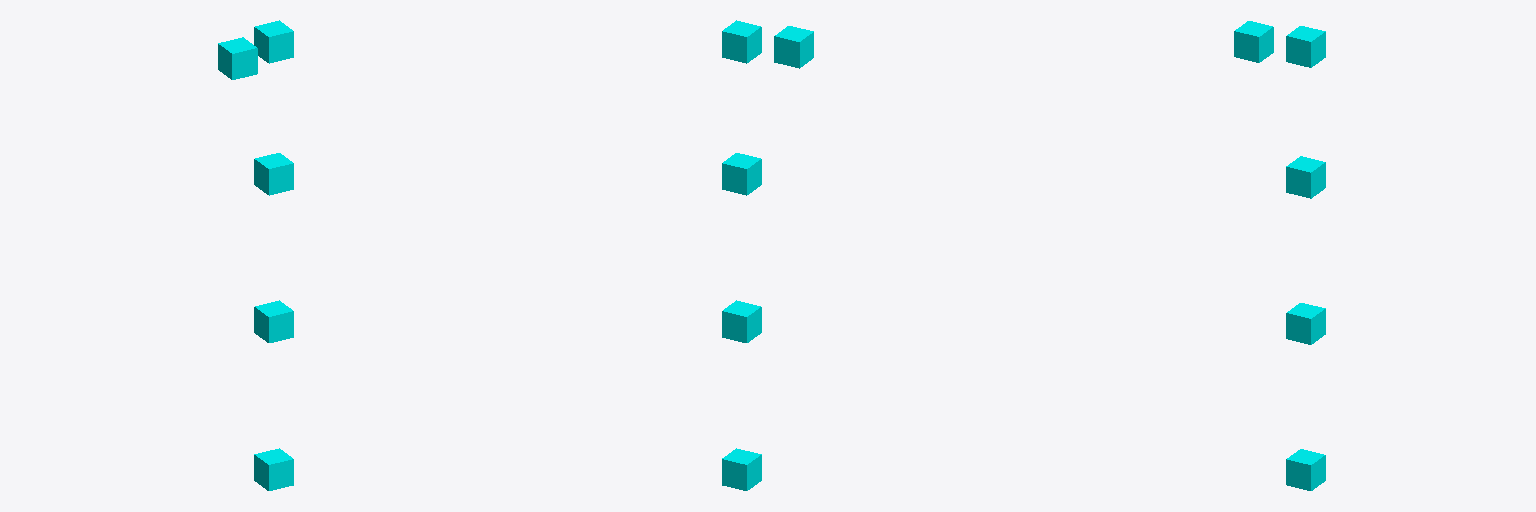
The robot description file, URDF, robot "ar600":
<?xml version="1.0" ?>
<!-- =================================================================================== -->
<!-- |    This document was autogenerated by xacro from ar600.xacro                    | -->
<!-- |    EDITING THIS FILE BY HAND IS NOT RECOMMENDED                                 | -->
<!-- =================================================================================== -->
<robot name="ar600" xmlns:xacro="http://www.ros.org/wiki/xacro">
  <link name="base_link">
    <visual>
      <origin rpy="0 0 0" xyz="0 0 0"/>
      <geometry>
        <box size="0.05 0.05 0.05"/>
      </geometry>
      <material name="Cyan">
        <color rgba="0 1.0 1.0 1.0"/>
      </material>
    </visual>
    <inertial>
      <origin rpy="0 0 0" xyz="0 0.05 0"/>
      <mass value="5.045"/>
      <inertia ixx="0.0" ixy="0.0" ixz="0.0" iyy="0.0" iyz="0.0" izz="0.0"/>
    </inertial>
  </link>
  <link name="hip_fork_left">
    <visual>
      <origin rpy="0 0 0" xyz="0 0 0"/>
      <geometry>
        <box size="0.05 0.05 0.05"/>
      </geometry>
      <material name="Cyan">
        <color rgba="0 1.0 1.0 1.0"/>
      </material>
    </visual>
  </link>
  <link name="hip_cross_left">
    <visual>
      <origin rpy="0 0 0" xyz="0 0 0"/>
      <geometry>
        <box size="0.05 0.05 0.05"/>
      </geometry>
      <material name="Cyan">
        <color rgba="0 1.0 1.0 1.0"/>
      </material>
    </visual>
  </link>
  <link name="hip_left">
    <visual>
      <origin rpy="0 0 0" xyz="0 0 0"/>
      <geometry>
        <box size="0.05 0.05 0.05"/>
      </geometry>
      <material name="Cyan">
        <color rgba="0 1.0 1.0 1.0"/>
      </material>
    </visual>
  </link>
  <link name="shin_left">
    <visual>
      <origin rpy="0 0 0" xyz="0 0 0"/>
      <geometry>
        <box size="0.05 0.05 0.05"/>
      </geometry>
      <material name="Cyan">
        <color rgba="0 1.0 1.0 1.0"/>
      </material>
    </visual>
  </link>
  <link name="ankle_left">
    <visual>
      <origin rpy="0 0 0" xyz="0 0 0"/>
      <geometry>
        <box size="0.05 0.05 0.05"/>
      </geometry>
      <material name="Cyan">
        <color rgba="0 1.0 1.0 1.0"/>
      </material>
    </visual>
  </link>
  <link name="foot_left">
    <visual>
      <origin rpy="0 0 0" xyz="0 0 0"/>
      <geometry>
        <box size="0.05 0.05 0.05"/>
      </geometry>
      <material name="Cyan">
        <color rgba="0 1.0 1.0 1.0"/>
      </material>
    </visual>
  </link>
  <!-- hip z rotate (vertical)-->
  <joint name="hip_r_joint_left" type="revolute">
    <parent link="base_link"/>
    <child link="hip_fork_left"/>
    <!-- z unknown -->
    <origin rpy="0 0 0" xyz="0.088 0.0276 0"/>
    <axis xyz="0 0 1"/>
    <limit effort="10" lower="-0.349065850399" upper="0.349065850399" velocity="10"/>
  </joint>
  <!-- hip y rotate (side)-->
  <joint name="hip_s_joint_left" type="revolute">
    <parent link="hip_fork_left"/>
    <child link="hip_cross_left"/>
    <!-- unknown -->
    <origin rpy="0 0 0" xyz="0 0 -0.25"/>
    <axis xyz="0 1 0"/>
    <limit effort="10" lower="-0.191986217719" upper="0.349065850399" velocity="10"/>
  </joint>
  <!-- hip x rotate (forward)-->
  <joint name="hip_f_joint_left" type="revolute">
    <parent link="hip_cross_left"/>
    <child link="hip_left"/>
    <origin rpy="0 0 0" xyz="0 0 0"/>
    <axis xyz="1 0 0"/>
    <limit effort="10" lower="-0.785398163397" upper="1.2217304764" velocity="10"/>
  </joint>
  <!-- knee -->
  <joint name="knee_joint_left" type="revolute">
    <parent link="hip_left"/>
    <child link="shin_left"/>
    <origin rpy="0 0 0" xyz="0 0 -0.28"/>
    <axis xyz="1 0 0"/>
    <limit effort="10" lower="-2.44346095279" upper="0" velocity="10"/>
  </joint>
  <!-- ankle x (forward) -->
  <joint name="ankle_f_joint_left" type="revolute">
    <parent link="shin_left"/>
    <child link="ankle_left"/>
    <origin rpy="0 0 0" xyz="0 0 -0.28"/>
    <axis xyz="1 0 0"/>
    <limit effort="10" lower="-0.575958653158" upper="1.2217304764" velocity="10"/>
  </joint>
  <!-- ankle y (side) -->
  <joint name="ankle_s_joint_left" type="revolute">
    <parent link="ankle_left"/>
    <child link="foot_left"/>
    <origin rpy="0 0 0" xyz="0 0 0"/>
    <axis xyz="0 1 0"/>
    <limit effort="10" lower="-0.349065850399" upper="0.191986217719" velocity="10"/>
  </joint>
</robot>

--- Facts derived from the render (not from the file) ---
Views: 3 orthographic renders of the robot side by side, from view 1: azimuth 30°, elevation 25°; view 2: azimuth 150°, elevation 25°; view 3: azimuth 330°, elevation 25°.
Model ar600 with 7 links and 6 joints (6 revolute), rooted at base_link, posed all joints at 0.
Visible links, largest first — view 1: base_link, shin_left, ankle_left, hip_cross_left, hip_fork_left; view 2: hip_fork_left, shin_left, base_link, hip_cross_left, ankle_left; view 3: hip_cross_left, shin_left, hip_fork_left, base_link, ankle_left.
Boxes of the visible links, x1,y1,x2,y2 form: base_link: (218,37,257,79); shin_left: (254,300,293,342); ankle_left: (254,448,293,490); hip_cross_left: (254,153,293,195); hip_fork_left: (254,20,293,63); hip_fork_left: (722,20,761,63); shin_left: (722,300,761,342); base_link: (774,26,813,68); hip_cross_left: (722,153,761,195); ankle_left: (722,448,761,490); hip_cross_left: (1286,156,1325,198); shin_left: (1286,303,1325,344); hip_fork_left: (1286,26,1325,67); base_link: (1234,21,1273,62); ankle_left: (1286,449,1325,490).
Bounding box of the posed robot: 0.138 × 0.0776 × 0.86 m (x, y, z).
Geometry: primitives only (box / cylinder / sphere), no mesh files.
